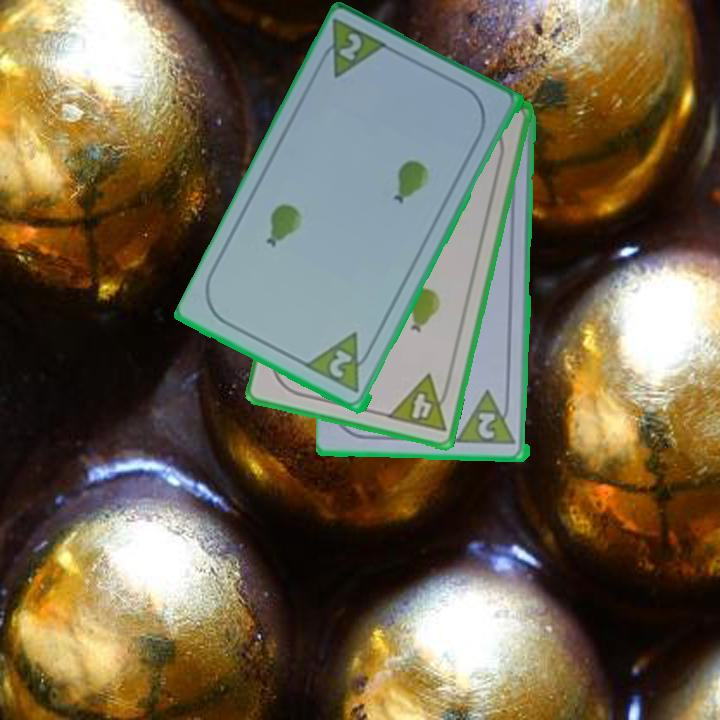2p: (456, 388, 520, 448), (325, 346, 356, 382), (335, 30, 365, 65)
4p: (384, 371, 455, 436)
